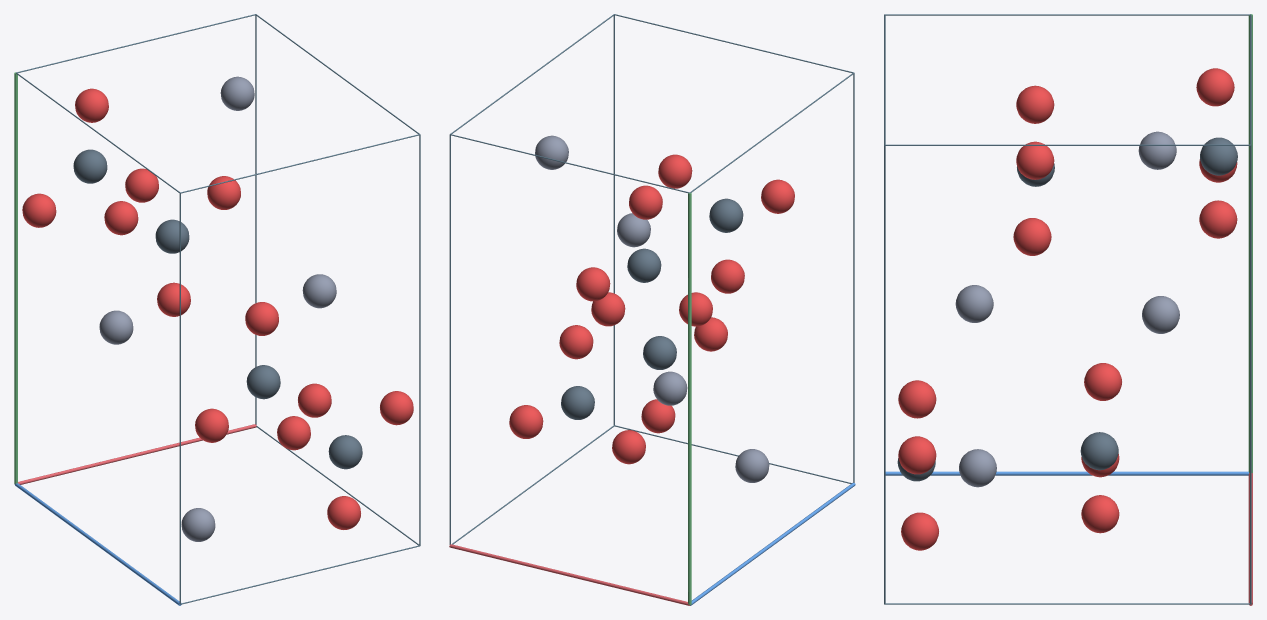
The model's file is chat-cerussite.glb.
3 views of the same model, side by side, from view 1: azimuth 30°, elevation 25°; view 2: azimuth 150°, elevation 25°; view 3: azimuth 270°, elevation 25° (orthographic). The views are drawn at different scales.
Visible parts, largest first — view 1: Ô mạng và các trục a, b, c, O2 · O · 1 (×8), Pb · Pb · 1 (×4), C · C · 1 (×4), O1 · O · 1 (×4); view 2: Ô mạng và các trục a, b, c, O2 · O · 1 (×8), C · C · 1 (×4), O1 · O · 1 (×4), Pb · Pb · 1 (×4); view 3: Ô mạng và các trục a, b, c, O2 · O · 1 (×6), O1 · O · 1 (×4), Pb · Pb · 1 (×4), C · C · 1 (×2).
Boxes of the visible parts, x1,y1,x2,y2 form: Ô mạng và các trục a, b, c: [14, 14, 420, 605]; O2 · O · 1 (×8): [22, 168, 413, 450]; Pb · Pb · 1 (×4): [99, 76, 336, 541]; C · C · 1 (×4): [73, 149, 362, 469]; O1 · O · 1 (×4): [75, 88, 360, 529]; Ô mạng và các trục a, b, c: [449, 14, 855, 605]; O2 · O · 1 (×8): [509, 154, 794, 464]; C · C · 1 (×4): [561, 198, 743, 419]; O1 · O · 1 (×4): [559, 185, 744, 433]; Pb · Pb · 1 (×4): [535, 135, 769, 482]; Ô mạng và các trục a, b, c: [884, 14, 1252, 605]; O2 · O · 1 (×6): [898, 85, 1237, 533]; O1 · O · 1 (×4): [901, 68, 1234, 550]; Pb · Pb · 1 (×4): [955, 131, 1179, 487]; C · C · 1 (×2): [1080, 137, 1237, 470].
Bounding box in the file's own units: 5.45 × 8.54 × 6.19.
